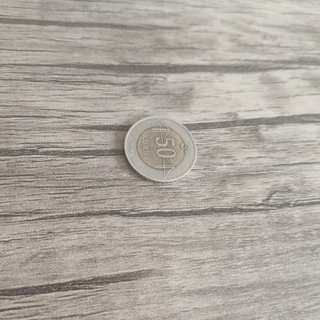50KURUS: (121, 115, 198, 184)
